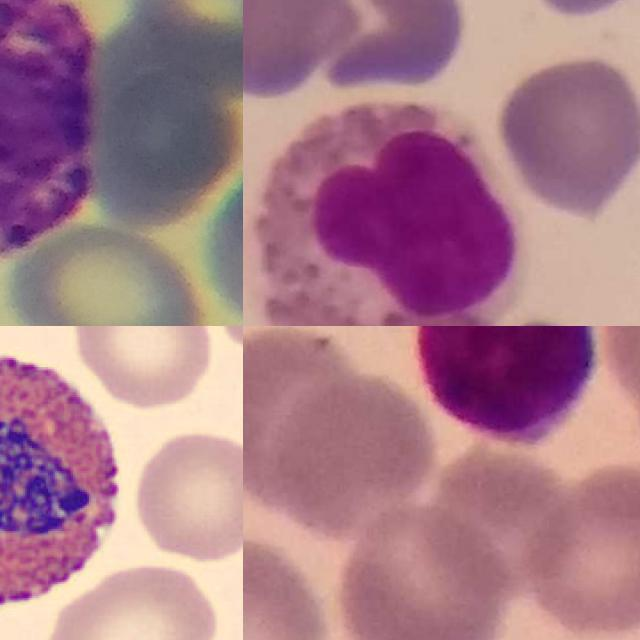Basophil: (0, 0, 103, 263)
Eosinophil: (250, 96, 521, 326), (0, 326, 138, 631)
Lymphocyte: (416, 326, 595, 451)
RBC: (129, 425, 243, 564), (39, 560, 222, 640), (69, 326, 215, 409)
